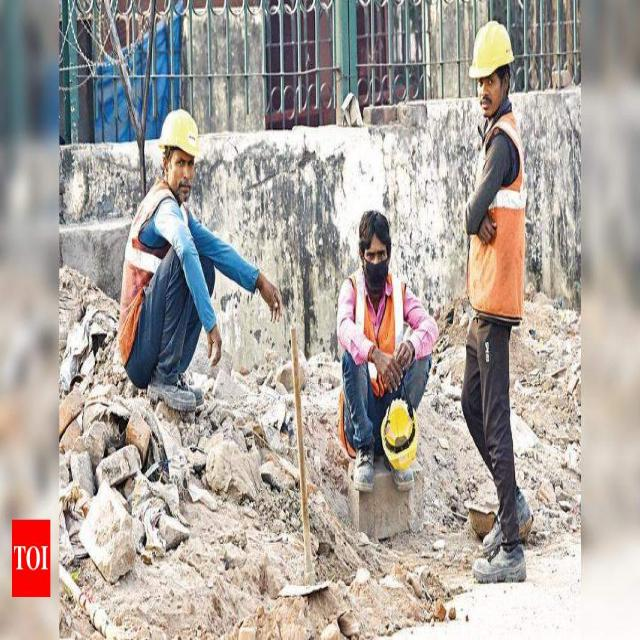Reflective-Jacket: (118, 180, 191, 372), (467, 110, 528, 328), (337, 267, 405, 391)
Safety-Helmet: (467, 18, 516, 82), (376, 399, 420, 465), (155, 103, 203, 160)
